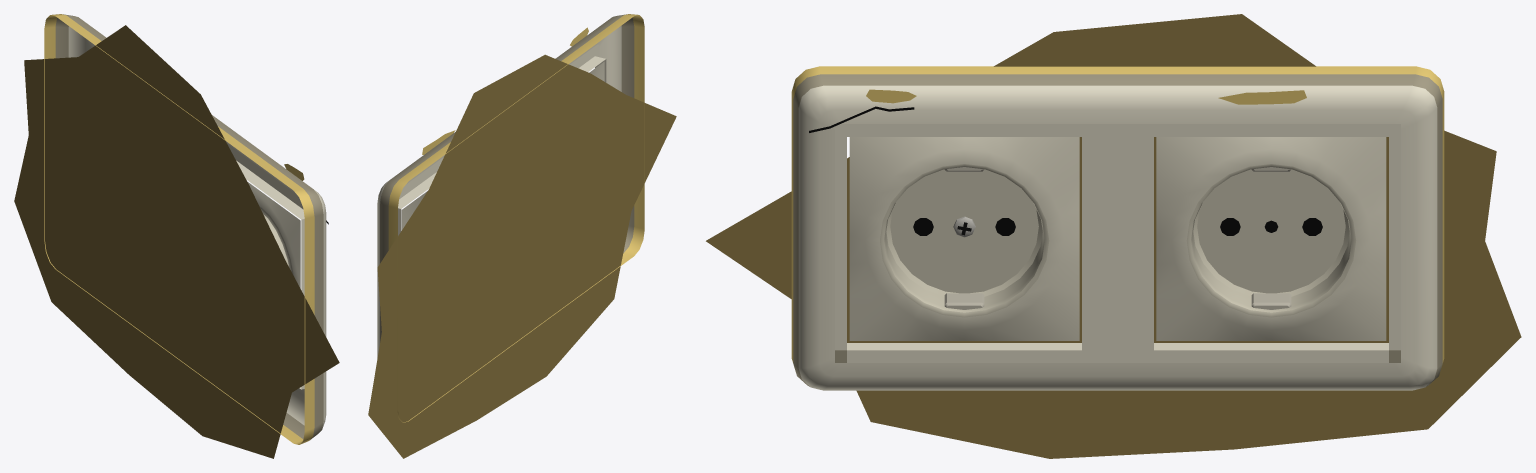
File: outlet@2.glb
The picture shows the model from 3 angles, left to right: view 1: azimuth 30°, elevation 25°; view 2: azimuth 150°, elevation 25°; view 3: azimuth 270°, elevation 25°; orthographic projection. The views are drawn at different scales.
Parts seen in each view (by area): view 1: steckdose; view 2: steckdose; view 3: steckdose.
Part boxes in pixels (left/top/right/bottom): steckdose: left=14, top=14, right=339, bottom=458; steckdose: left=368, top=14, right=676, bottom=458; steckdose: left=706, top=14, right=1521, bottom=458.
Bounding box in the file's own units: 0.0103 × 0.1136 × 0.1888.
